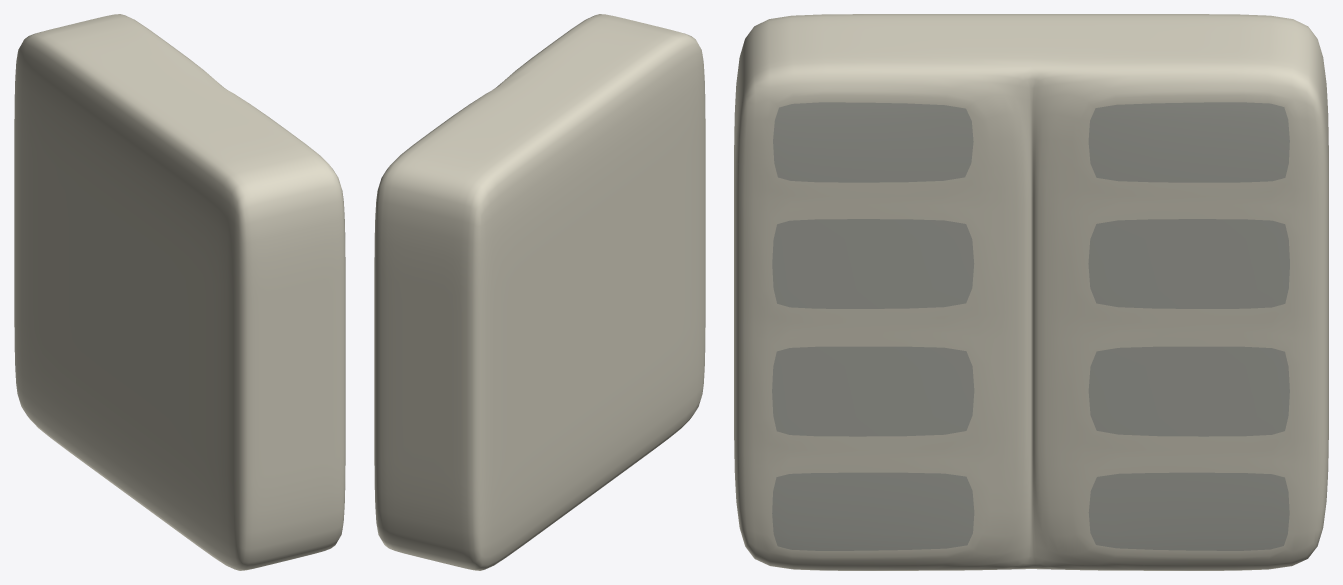
The model's file is white_cabinet (1).fbx.
The picture shows the model from 3 angles, left to right: view 1: azimuth 30°, elevation 25°; view 2: azimuth 150°, elevation 25°; view 3: azimuth 270°, elevation 25°; orthographic projection. The views are drawn at different scales.
Parts seen in each view (by area): view 1: Cube; view 2: Cube; view 3: Cube.
Part boxes in pixels (<box>): Cube: <box>14,14,345,570</box>; Cube: <box>374,14,705,570</box>; Cube: <box>734,14,1328,570</box>.
Size of the model in its own units: 235 by 792 by 842.
